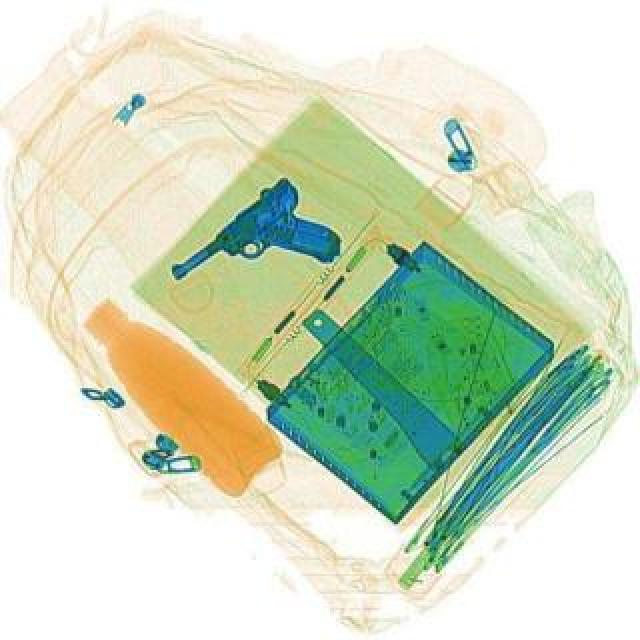gun: (162, 170, 350, 338)
